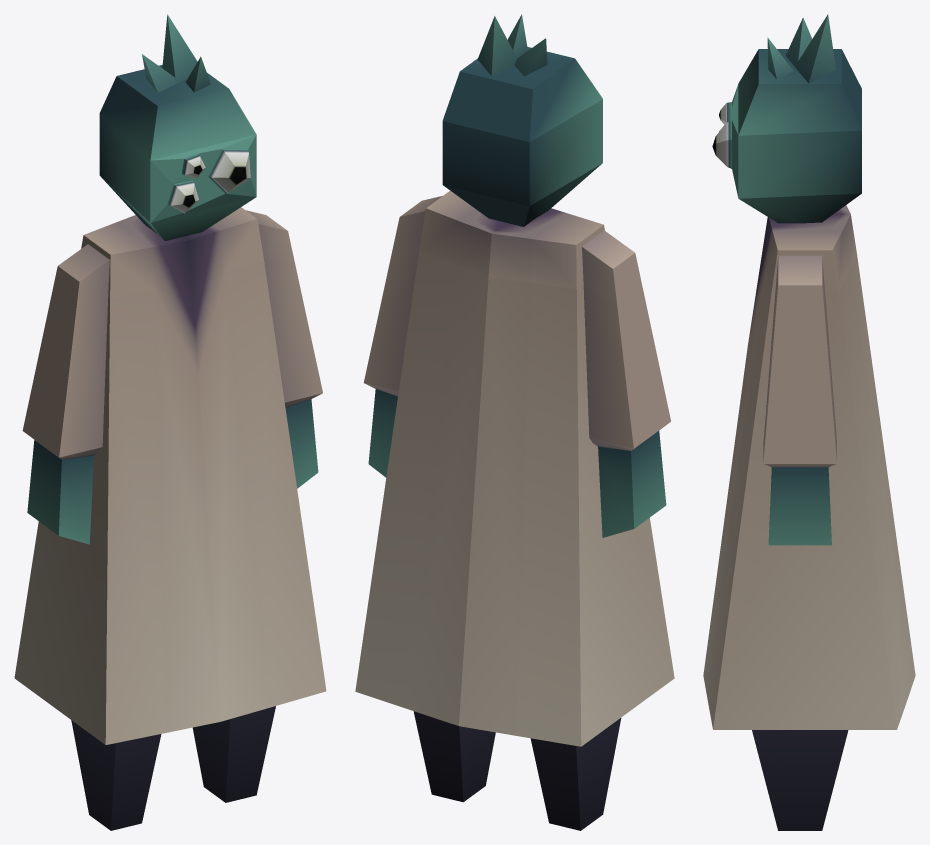
The model's file is adult_male_L.obj.
3 views of the same model, side by side, from view 1: azimuth 30°, elevation 25°; view 2: azimuth 150°, elevation 25°; view 3: azimuth 270°, elevation 25° (orthographic). The views are drawn at different scales.
Parts seen in each view (by area): view 1: adult_body_F_L.002, adult_body_M_head.001, adult_body_Arm_Right.002, adult_body_Arm_Left.002, adult_body_Feet_Right.002, adult_body_Feet_Left.002; view 2: adult_body_F_L.002, adult_body_M_head.001, adult_body_Arm_Right.002, adult_body_Arm_Left.002, adult_body_Feet_Right.002, adult_body_Feet_Left.002; view 3: adult_body_F_L.002, adult_body_M_head.001, adult_body_Arm_Left.002, adult_body_Feet_Left.002.
Boxes of the visible parts, x1,y1,x2,y2 form: adult_body_F_L.002: (14, 207, 326, 744); adult_body_M_head.001: (99, 14, 256, 240); adult_body_Arm_Right.002: (22, 244, 109, 544); adult_body_Arm_Left.002: (246, 210, 322, 488); adult_body_Feet_Right.002: (71, 720, 161, 830); adult_body_Feet_Left.002: (192, 706, 275, 802); adult_body_F_L.002: (355, 190, 674, 746); adult_body_M_head.001: (442, 14, 602, 226); adult_body_Arm_Right.002: (582, 230, 670, 537); adult_body_Arm_Left.002: (363, 196, 442, 477); adult_body_Feet_Right.002: (530, 718, 621, 830); adult_body_Feet_Left.002: (413, 711, 495, 802); adult_body_F_L.002: (703, 205, 915, 729); adult_body_M_head.001: (712, 14, 861, 223); adult_body_Arm_Left.002: (763, 255, 836, 545); adult_body_Feet_Left.002: (752, 730, 848, 830).
Bounding box in the file's own units: 3.17 × 8.95 × 2.19.
